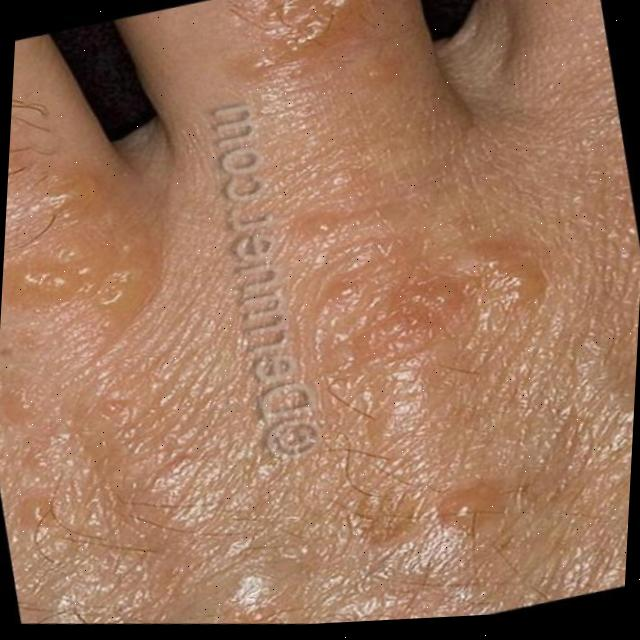Eczema: (304, 192, 538, 549), (39, 219, 154, 323), (275, 0, 343, 73)
